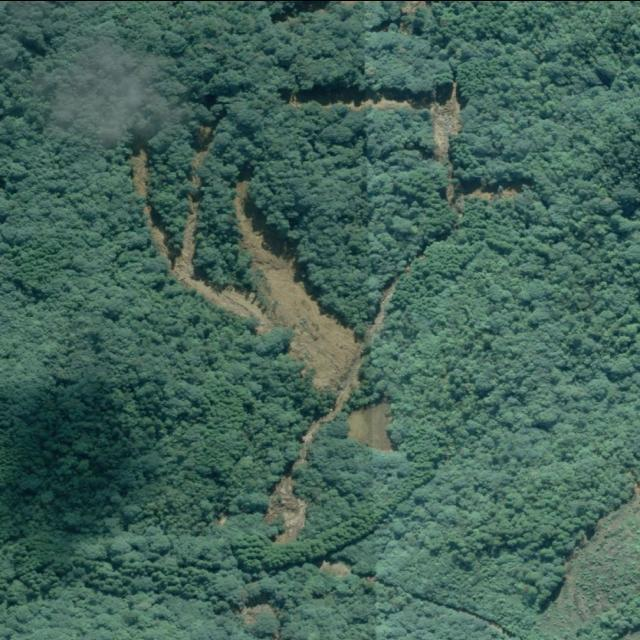landslide: (133, 146, 361, 391)
